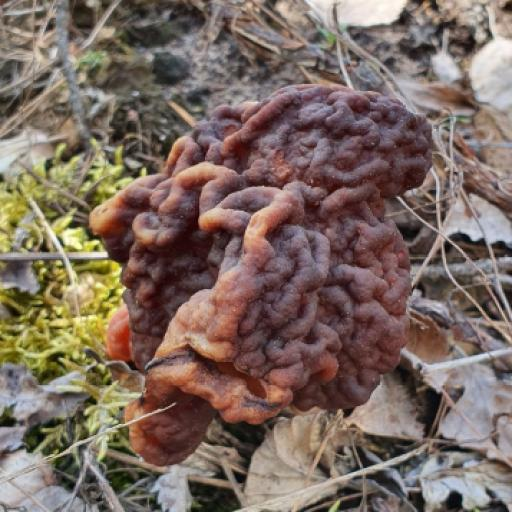False Morel: (97, 85, 461, 454)
